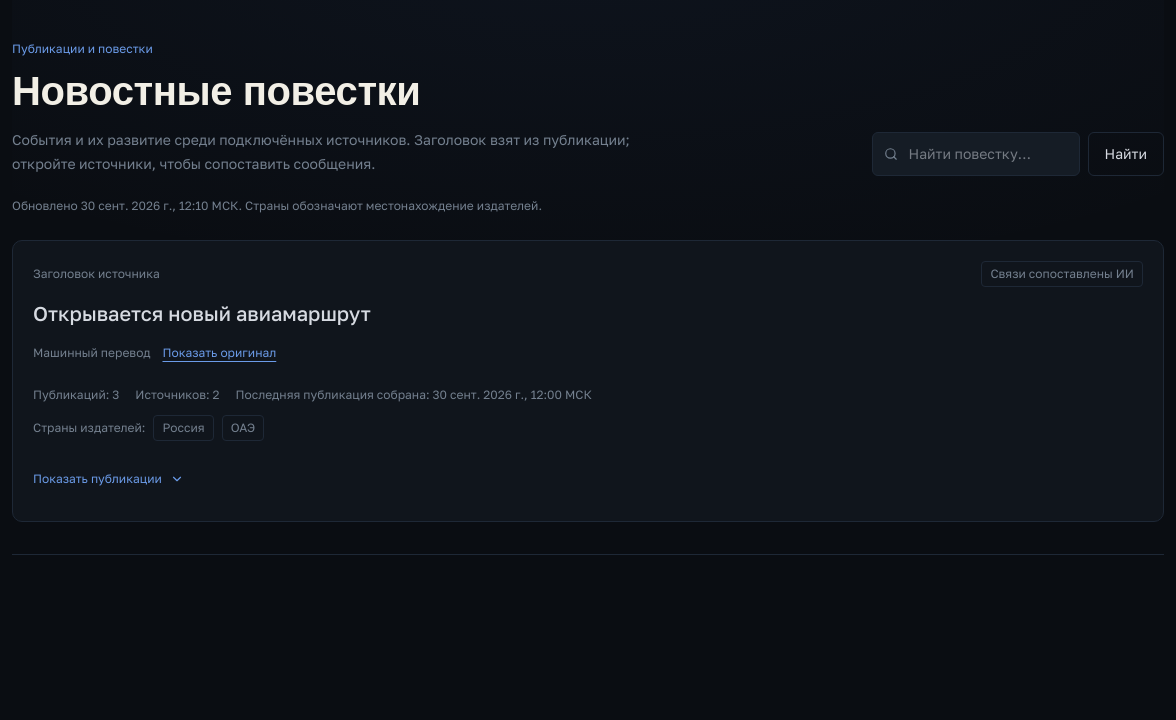
Scenario: Agenda titles in Russian › defaults to cached Russian titles and lets the reader switch back without another request
Expected: the heading "Открывается новый авиамаршрут" is shown, [33,301,371,325]
Expected: the text "Машинный перевод" is shown, [33,345,150,361]
Click the button "Показать оригинал" at (219, 353), box [162,331,276,375]
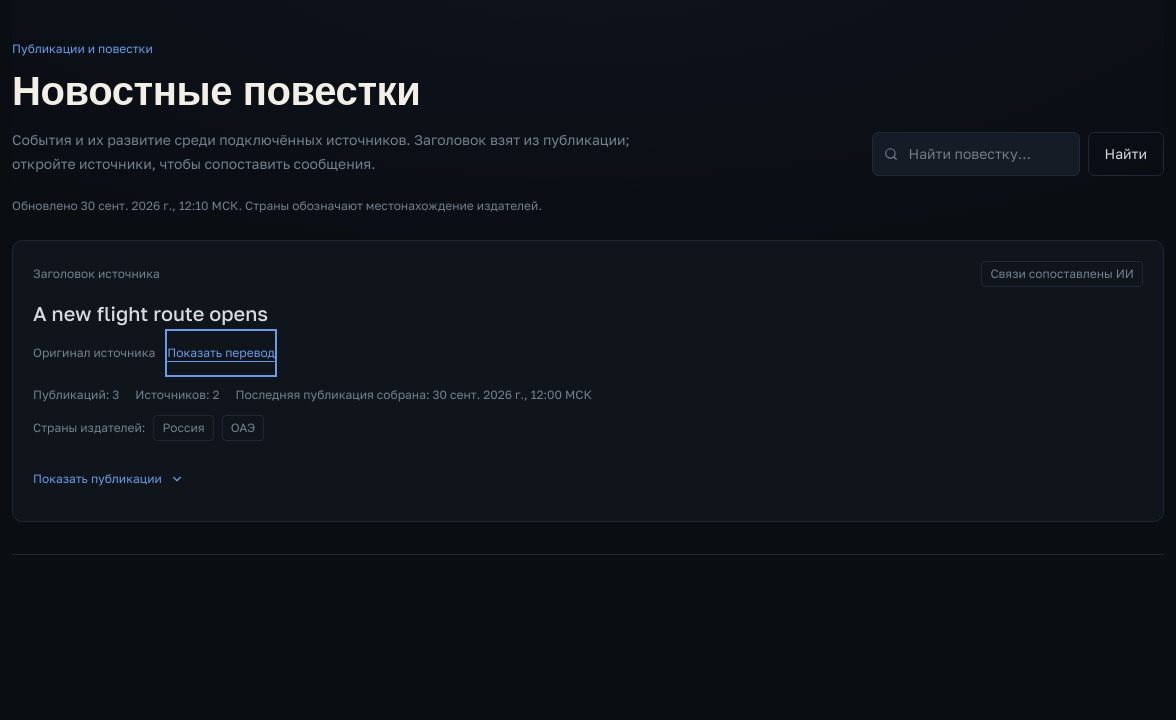
Expected: the heading "A new flight route opens" is shown, [33,301,268,325]
Expected: the text "Машинный перевод" is gone
Click the button "Показать перевод" at (221, 353), box [167,331,275,375]
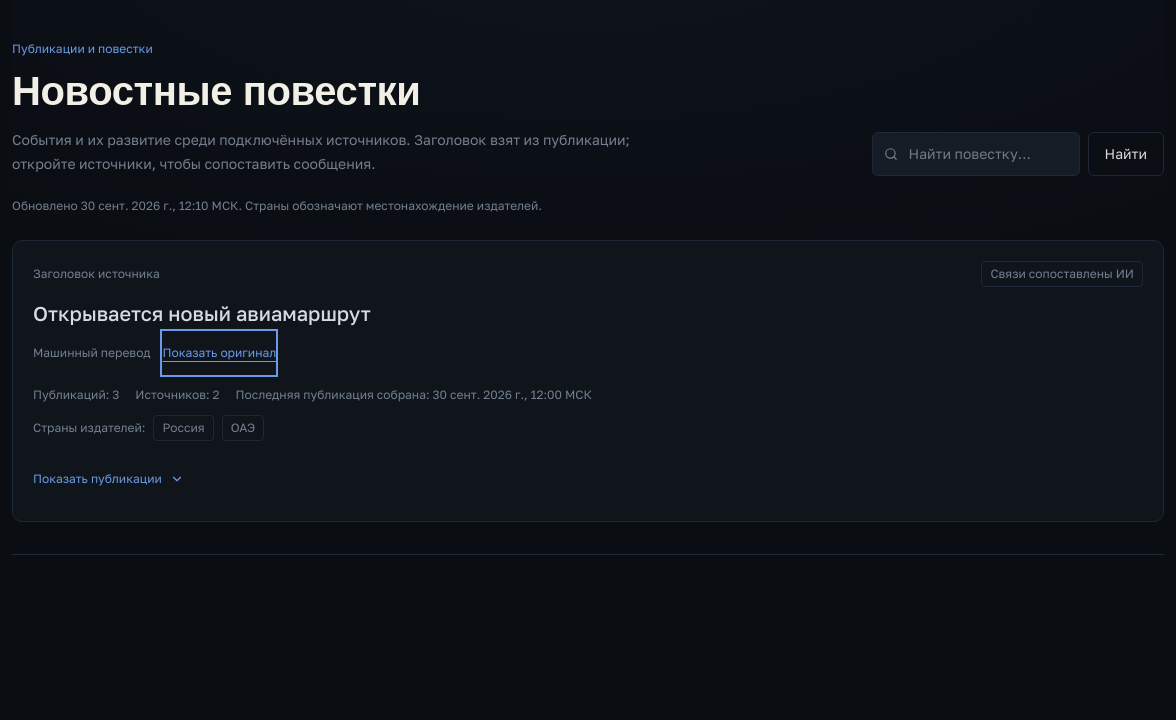
Expected: the heading "Открывается новый авиамаршрут" is shown, [33,301,371,325]
